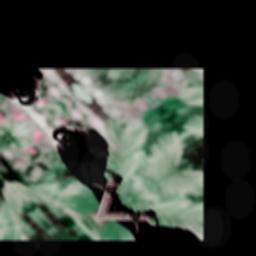Crow: (36, 112, 150, 212)
